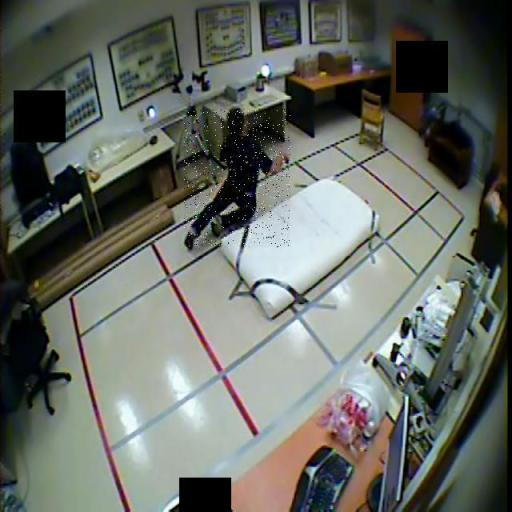Fall: (184, 109, 290, 247)
